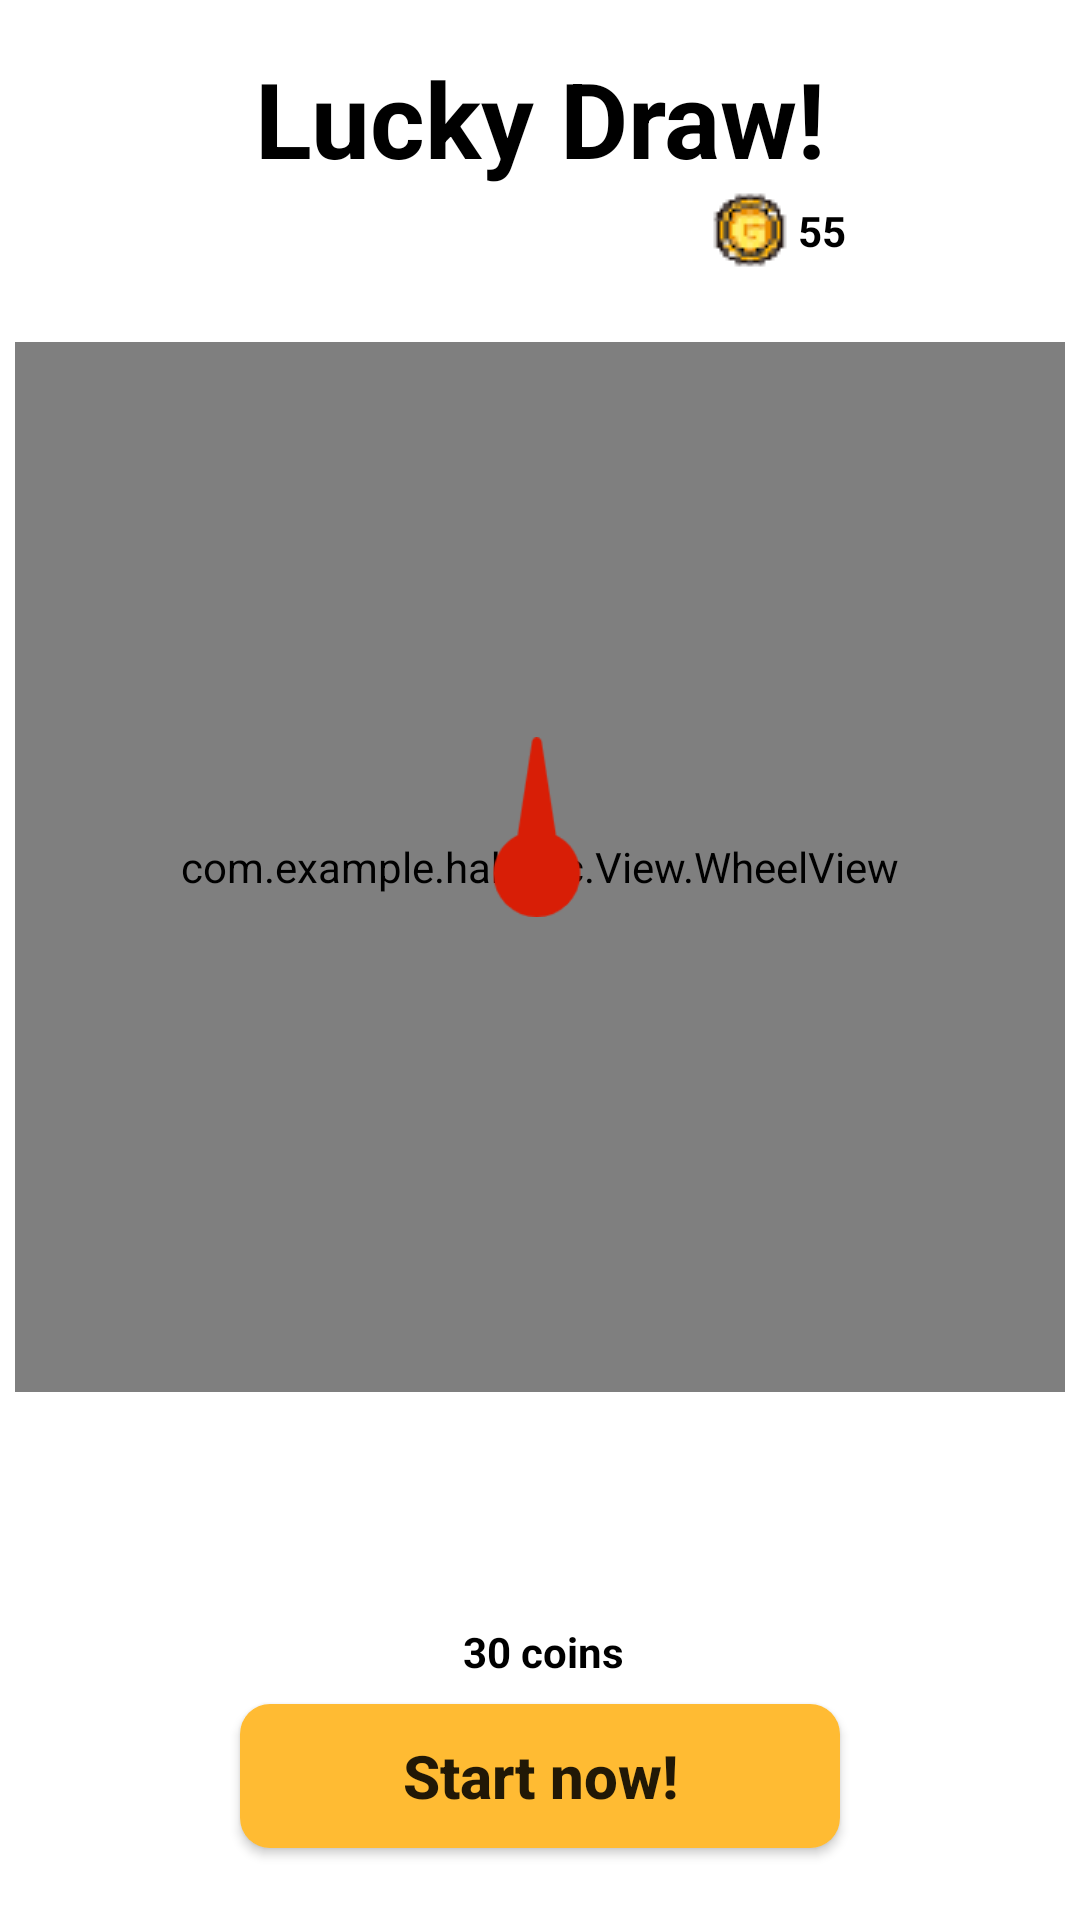

Named icons in this screenshot (1080 x 1920) and their centers, (x=x, y=y):
coin: (x=749, y=230)
pointer: (x=537, y=827)
